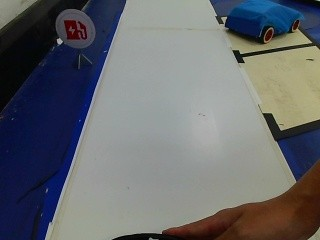battery: (52, 9, 95, 50)
car: (225, 0, 300, 46)
